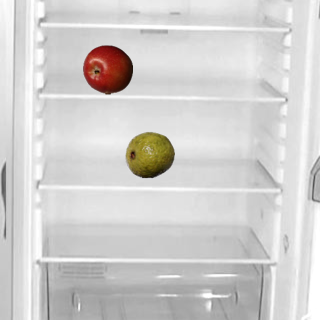Apple Braeburn: (82, 44, 132, 94)
Guava: (124, 129, 174, 179)
